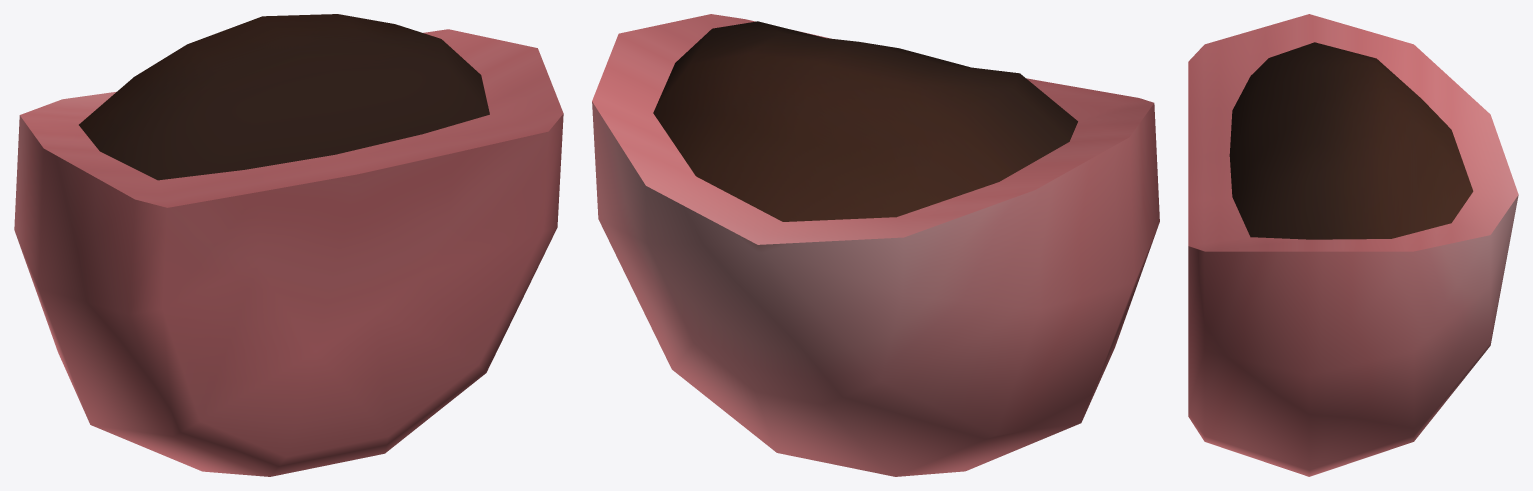
Rendered from Mochi.fbx.
The picture shows the model from 3 angles, left to right: view 1: azimuth 30°, elevation 25°; view 2: azimuth 150°, elevation 25°; view 3: azimuth 270°, elevation 25°; orthographic projection. The views are drawn at different scales.
Visible parts, largest first — view 1: Mochi; view 2: Mochi; view 3: Mochi.
Boxes of the visible parts, <box> form: Mochi: <box>14,14,563,476</box>; Mochi: <box>592,14,1159,476</box>; Mochi: <box>1188,14,1518,476</box>.
Size of the model in its own units: 9.38 by 5.91 by 7.29.
